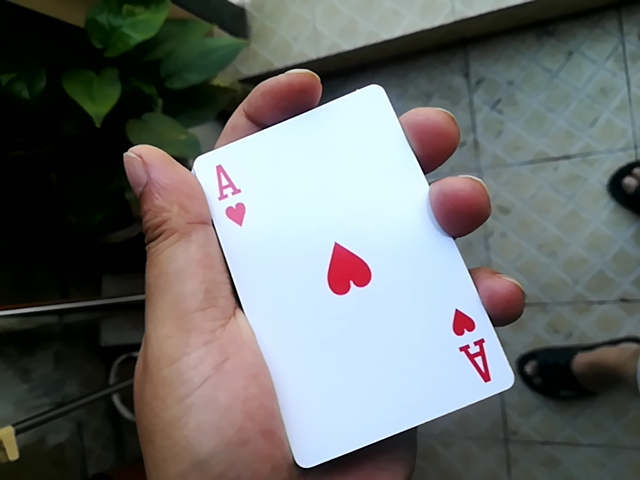hx a: (178, 68, 495, 472)
